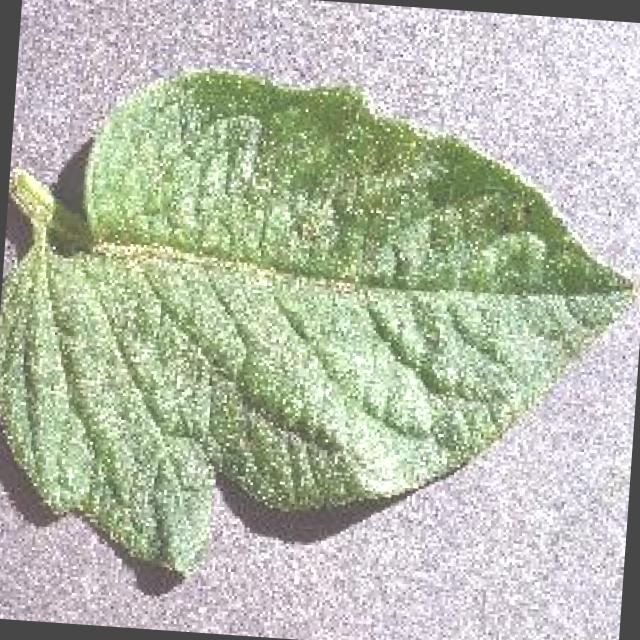healthy: (0, 73, 633, 595)
